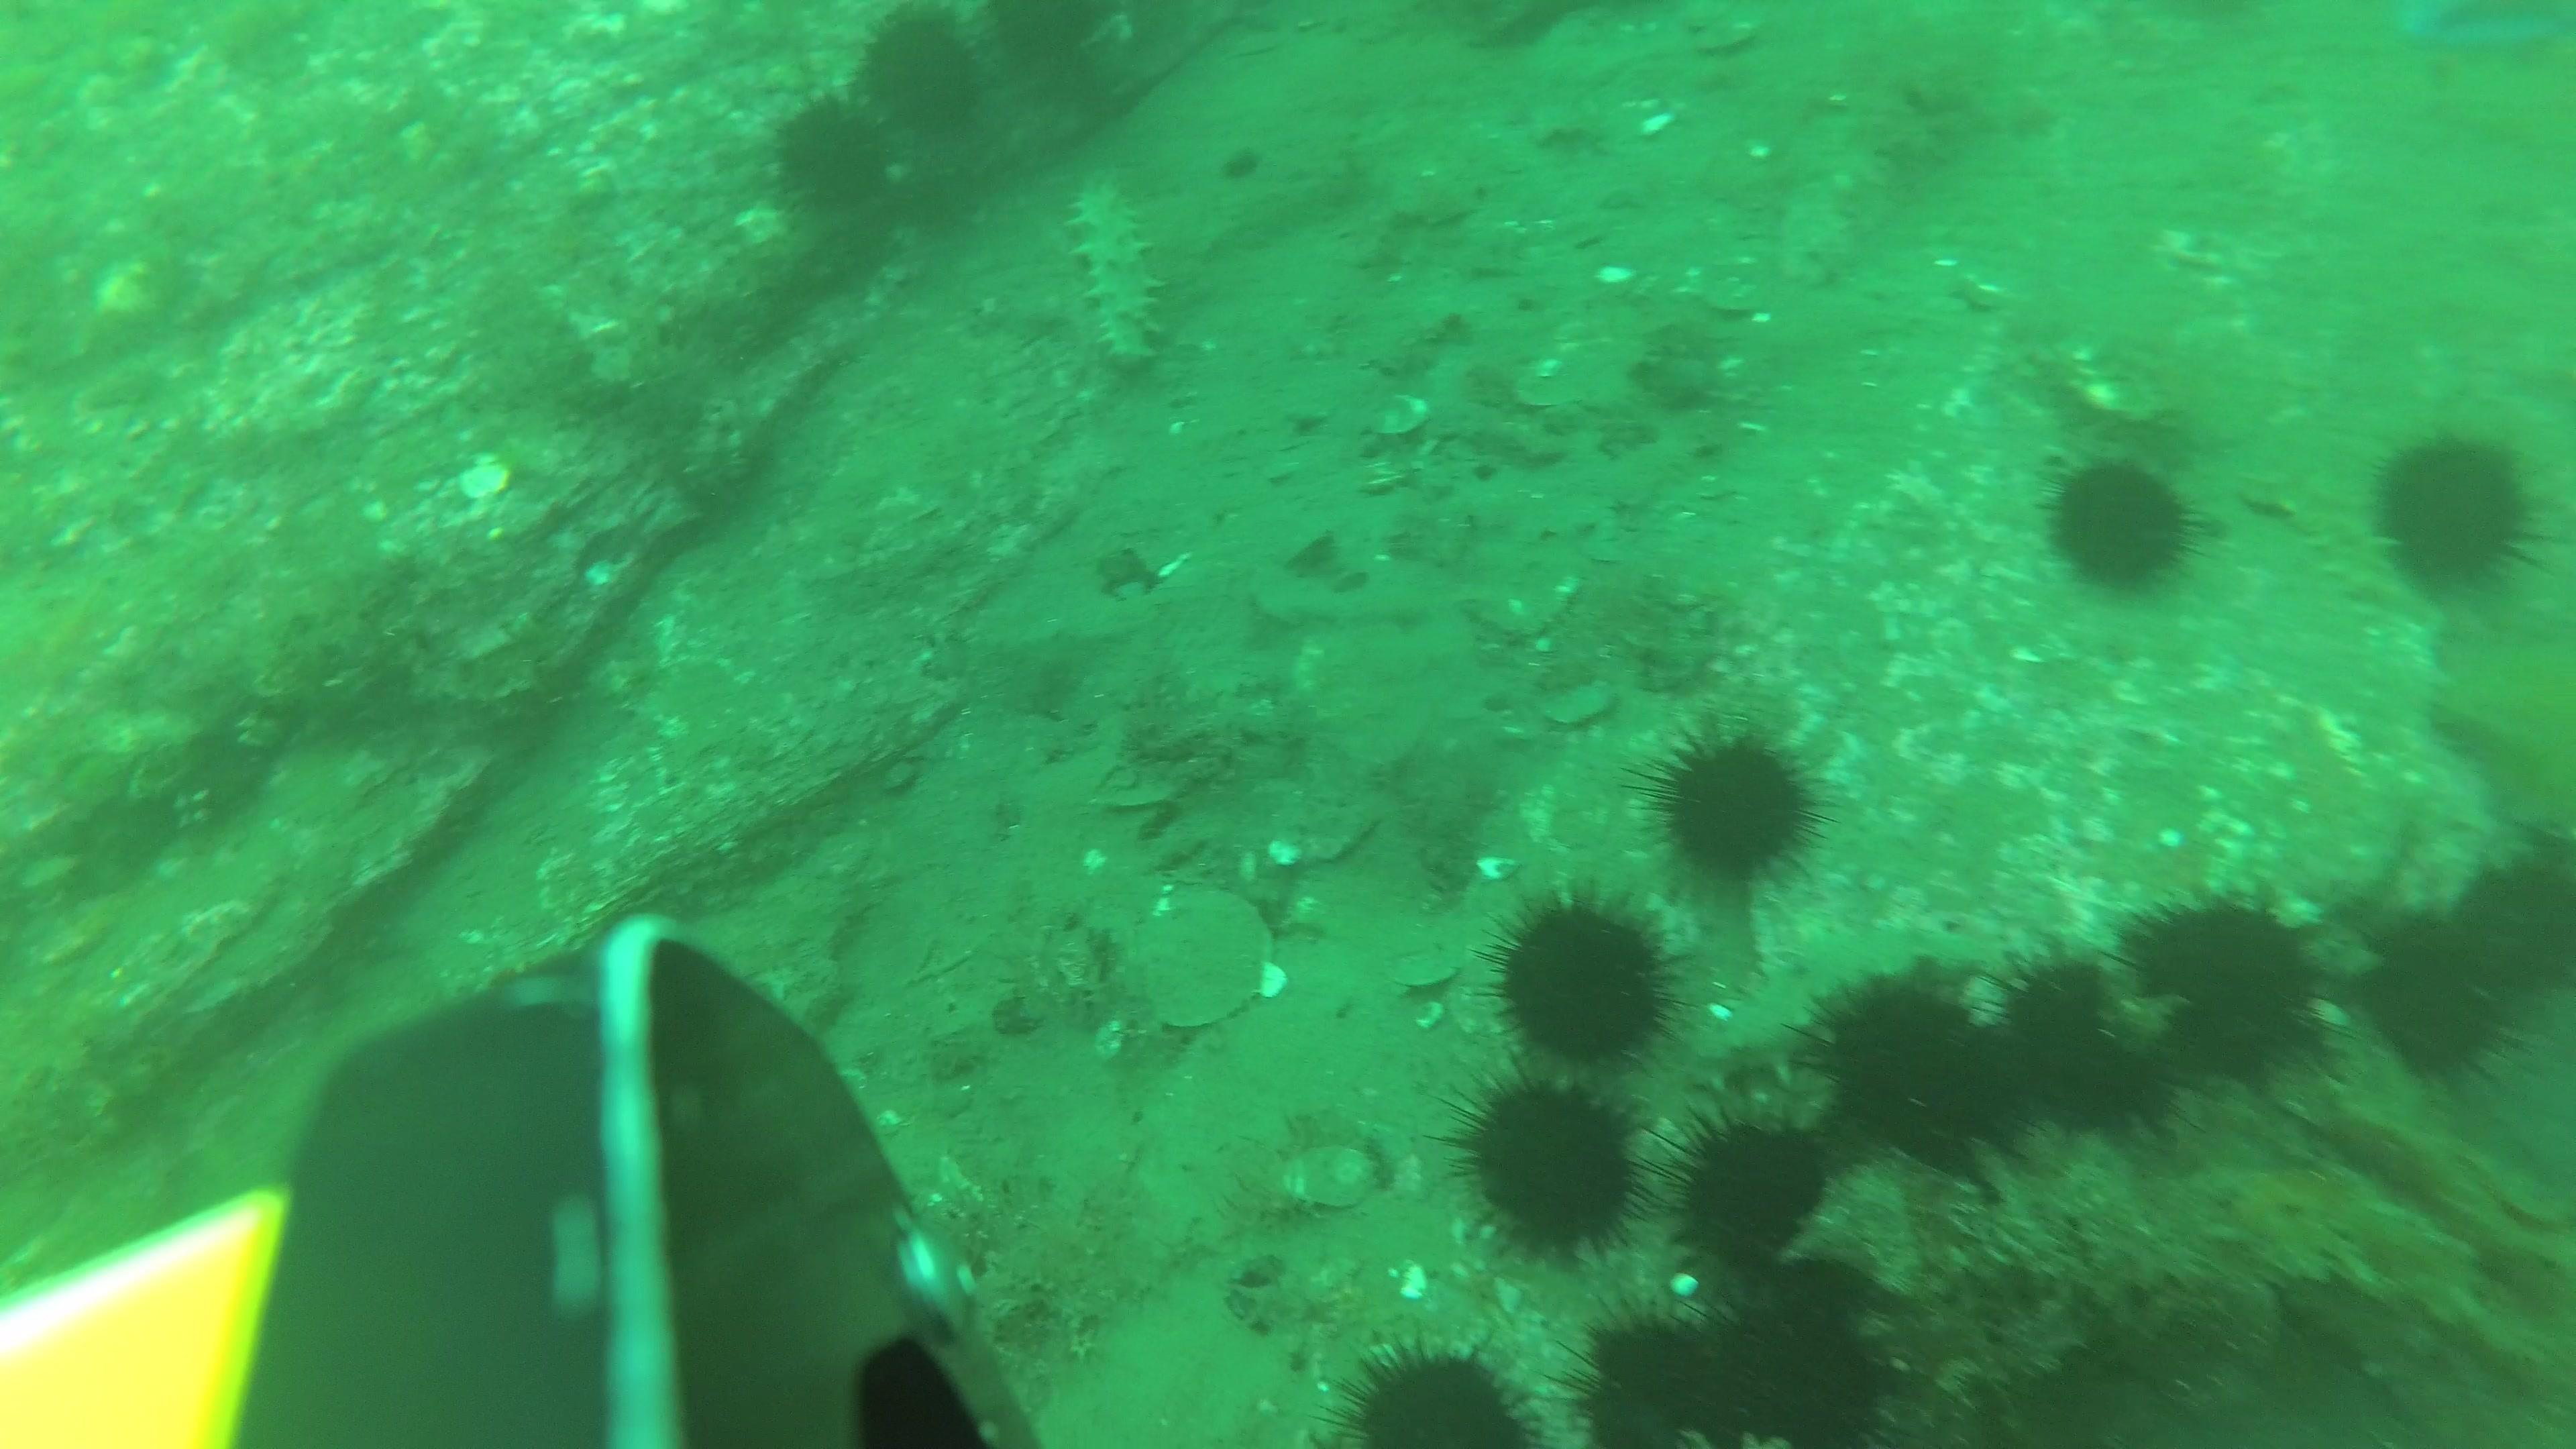echinus: (1430, 1053, 1670, 1277), (1468, 881, 1700, 1090), (1794, 978, 2020, 1189), (2107, 892, 2328, 1095), (1987, 943, 2178, 1148), (1626, 718, 1836, 897), (1640, 1104, 1838, 1284), (1679, 1293, 1904, 1449), (2365, 430, 2560, 603), (2350, 902, 2523, 1090), (1555, 1293, 1744, 1449), (1316, 1330, 1555, 1449), (2043, 451, 2204, 600), (855, 7, 989, 138), (2454, 853, 2576, 993), (773, 92, 893, 218), (970, 0, 1125, 73)
holothurian: (1062, 177, 1168, 372)
scallop: (1136, 885, 1276, 1030), (1284, 1138, 1380, 1215), (1389, 168, 1481, 230), (1392, 948, 1465, 993)
